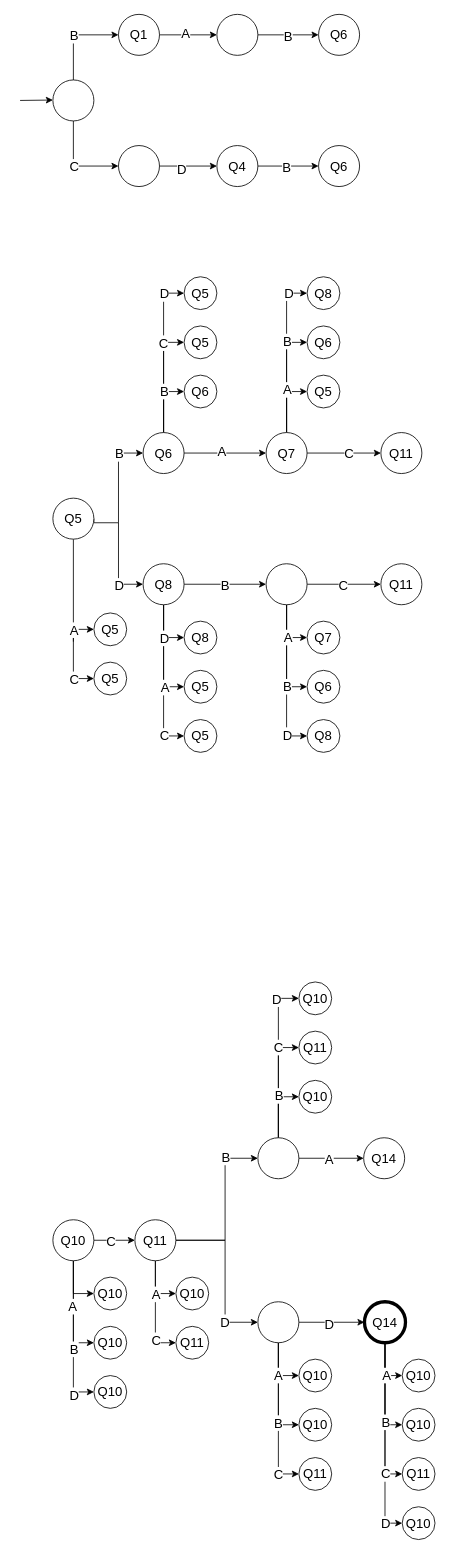
Some shapes in this 449 by 1554 pixel diagram are drawn without their labels. The centre of each missing label's shape, as x and y in pixels:
"Q0" goes at [73,100].
"Q12" goes at [278,1158].
"Q13" goes at [278,1322].
"Q2" goes at [237,34].
"Q3" goes at [138,166].
"Q9" goes at [286,584].
